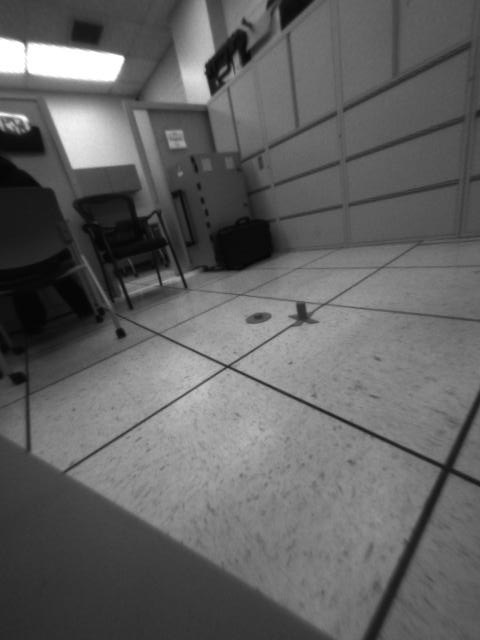X: (288, 300, 320, 326)
